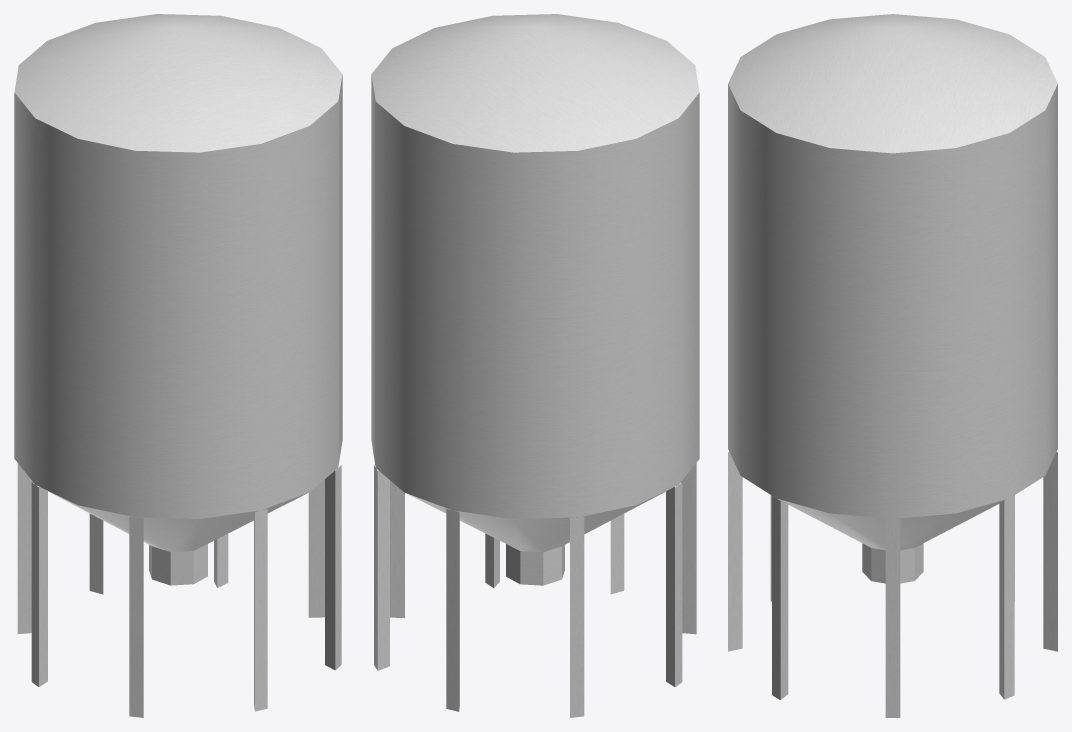
The model's file is grain-silo-hopper-6x10-cbj_LOD01.gltf.
3 renders of one model, left to right at view 1: azimuth 30°, elevation 25°; view 2: azimuth 150°, elevation 25°; view 3: azimuth 270°, elevation 25°, orthographic.
Parts seen in each view (by area): view 1: grain-silo01; view 2: grain-silo01; view 3: grain-silo01.
Boxes of the visible parts, bbox=[...] form: grain-silo01: bbox=[14, 14, 342, 717]; grain-silo01: bbox=[371, 14, 699, 717]; grain-silo01: bbox=[728, 14, 1057, 717].
Bounding box in the file's own units: 5.4 × 11.2 × 5.4.
